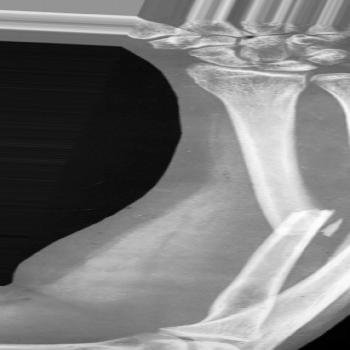Fracture: (259, 196, 350, 248)
